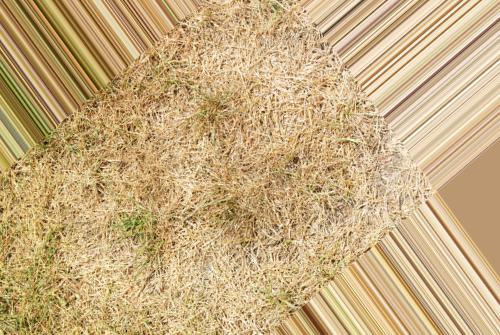patch: (59, 155, 207, 257), (226, 33, 308, 166)
